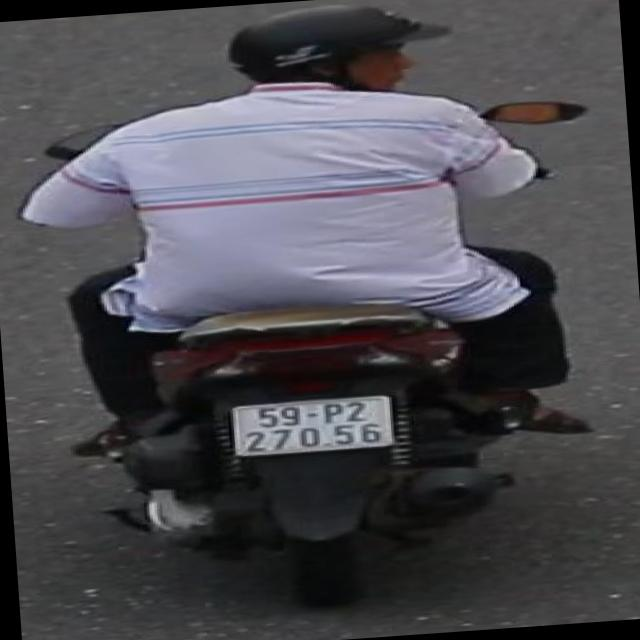LP: (216, 384, 416, 464)
helmet: (192, 0, 464, 113)
